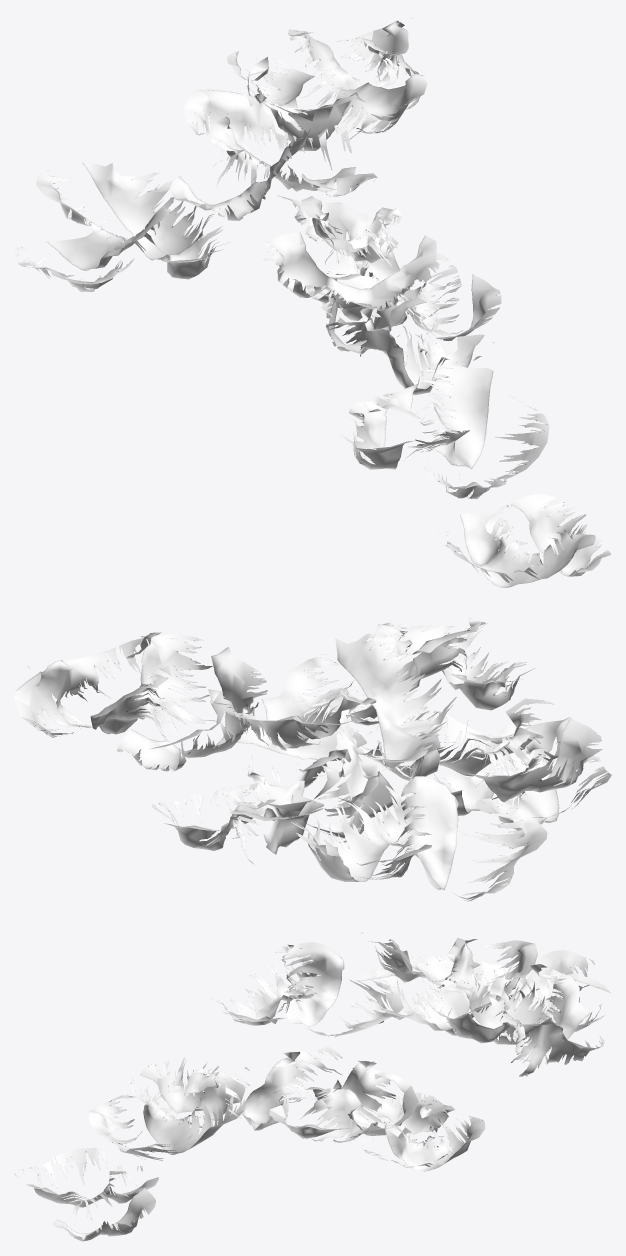
File: SM_ENV_KNFRST_Leaf_GroupB.FBX
3 renders of one model, top to bottom at view 1: azimuth 30°, elevation 25°; view 2: azimuth 150°, elevation 25°; view 3: azimuth 270°, elevation 25°, orthographic. The views are drawn at different scales.
Visible parts, largest first — view 1: SM_ENV_KNFRST_Leaf_GroupB; view 2: SM_ENV_KNFRST_Leaf_GroupB; view 3: SM_ENV_KNFRST_Leaf_GroupB.
Boxes of the visible parts, box(x1,y1,x2,y2) form: SM_ENV_KNFRST_Leaf_GroupB: box(14, 20, 611, 587); SM_ENV_KNFRST_Leaf_GroupB: box(14, 617, 611, 901); SM_ENV_KNFRST_Leaf_GroupB: box(14, 932, 610, 1241).
Size of the model in its own units: 9617 by 7380 by 14269.
